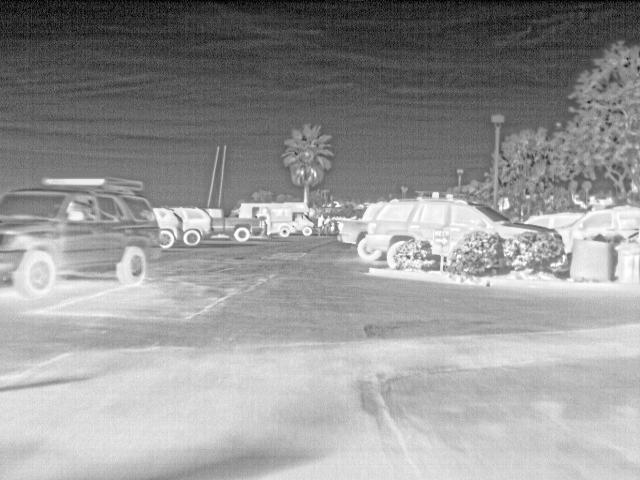car: (0, 175, 155, 297), (378, 198, 462, 242), (211, 206, 263, 243), (338, 211, 375, 260), (579, 206, 639, 236), (266, 200, 314, 237), (463, 200, 507, 234), (181, 206, 211, 246), (156, 207, 183, 248), (523, 211, 578, 229)
person: (316, 214, 325, 228)
